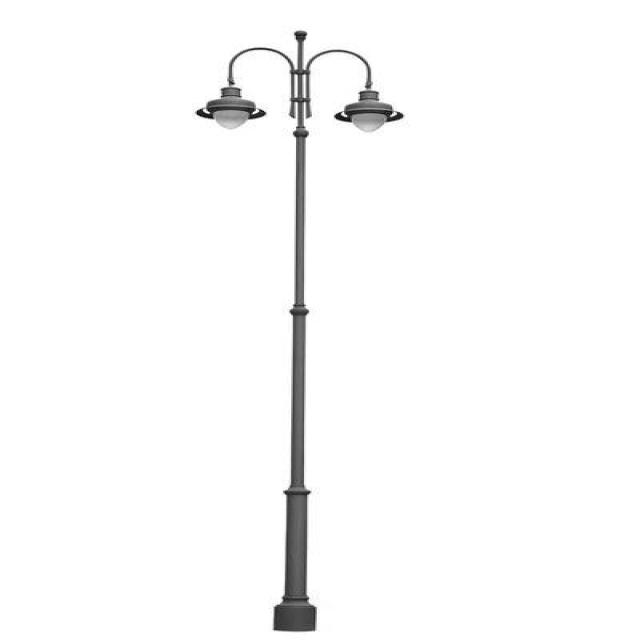Pole: (197, 30, 403, 633)
